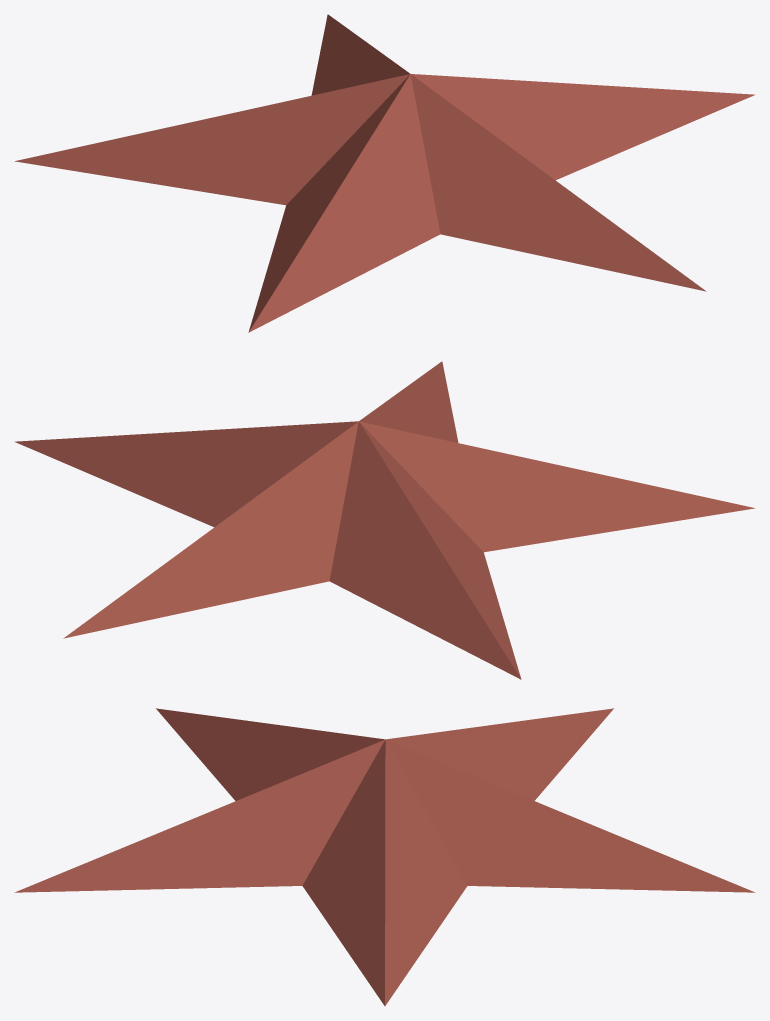
File: Star.fbx
3 renders of one model, top to bottom at view 1: azimuth 30°, elevation 25°; view 2: azimuth 150°, elevation 25°; view 3: azimuth 270°, elevation 25°, orthographic. The views are drawn at different scales.
Visible parts, largest first — view 1: Star; view 2: Star; view 3: Star.
Boxes of the visible parts, bbox=[...] form: Star: bbox=[15, 14, 755, 332]; Star: bbox=[14, 361, 754, 679]; Star: bbox=[14, 708, 755, 1005].
Size of the model in its own units: 34.11 by 5.47 by 35.86.
